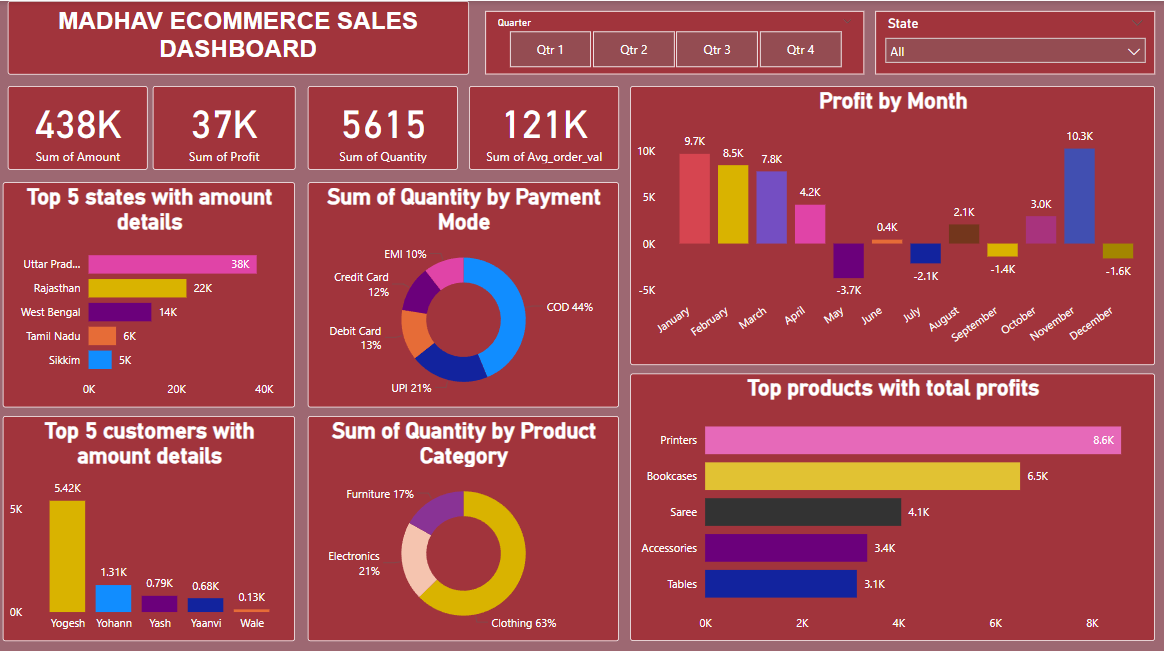

The page's visual inventory and layout, read from the dashboard file:
{"tool":"powerbi","page":{"name":"Page 1","canvas":[1280,720],"ordinal":0},"visuals":[{"type":"textbox","box":[9.6,0,506.3,81],"z":0},{"type":"columnChart","title":"Profit by Month","fields":{"Category":["Orders.Order Date.Variation.Date Hierarchy.Month"],"Y":["Sum(Details.Profit)"]},"box":[693,93.3,576.3,306],"z":1000},{"type":"barChart","title":"Top products with total profits","fields":{"Category":["Details.Sub-Category"],"Y":["Sum(Details.Profit)"]},"box":[693,408.9,576.3,293.7],"z":1001},{"type":"donutChart","title":"Sum of Quantity by Product Category","fields":{"Category":["Details.Category"],"Y":["Sum(Details.Quantity)"]},"box":[338.9,455.6,341.7,247],"z":1002},{"type":"donutChart","title":"Sum of Quantity by Payment Mode","fields":{"Y":["Sum(Details.Quantity)"],"Category":["Details.PaymentMode"]},"box":[338.9,199,341.7,247],"z":1003},{"type":"card","fields":{"Values":["Sum(Details.Amount)"]},"box":[9.6,93.3,153.7,91.9],"z":1004},{"type":"card","fields":{"Values":["Sum(Details.Profit)"]},"box":[168.8,93.3,156.4,91.9],"z":1005},{"type":"card","fields":{"Values":["Sum(Details.Quantity)"]},"box":[338.9,93.3,164.7,91.9],"z":1006},{"type":"card","fields":{"Values":["Sum(Details.Avg_order_val)"]},"box":[516,93.3,164.7,91.9],"z":1007},{"type":"barChart","title":"Top 5 states with amount details","fields":{"Y":["Sum(Details.Amount)"],"Category":["Orders.State"]},"box":[4.1,199,321.1,247],"z":1008},{"type":"columnChart","title":"Top 5 customers with amount details","fields":{"Category":["Orders.CustomerName"],"Y":["Sum(Details.Amount)"]},"box":[4.1,455.6,321.1,247],"z":1009},{"type":"slicer","fields":{"Values":["Orders.Order Date.Variation.Date Hierarchy.Quarter"]},"box":[533.8,11,415.8,70],"z":1010},{"type":"slicer","fields":{"Values":["Orders.State"]},"box":[961.9,11,307.4,70],"z":1011}]}

Visuals, with their boxes in screenshot pixels (x1, y1, x2, y2), scaled from the page's 1280x720 canvas onto the 1164x651 screenshot:
textbox: x1=9 y1=0 x2=469 y2=73
"Profit by Month" columnChart: x1=630 y1=84 x2=1154 y2=361
"Top products with total profits" barChart: x1=630 y1=370 x2=1154 y2=635
"Sum of Quantity by Product Category" donutChart: x1=308 y1=412 x2=619 y2=635
"Sum of Quantity by Payment Mode" donutChart: x1=308 y1=180 x2=619 y2=403
card - Sum(Details.Amount): x1=9 y1=84 x2=149 y2=167
card - Sum(Details.Profit): x1=154 y1=84 x2=296 y2=167
card - Sum(Details.Quantity): x1=308 y1=84 x2=458 y2=167
card - Sum(Details.Avg_order_val): x1=469 y1=84 x2=619 y2=167
"Top 5 states with amount details" barChart: x1=4 y1=180 x2=296 y2=403
"Top 5 customers with amount details" columnChart: x1=4 y1=412 x2=296 y2=635
slicer - Orders.Order Date.Variation.Date Hierarchy.Quarter: x1=485 y1=10 x2=864 y2=73
slicer - Orders.State: x1=875 y1=10 x2=1154 y2=73
